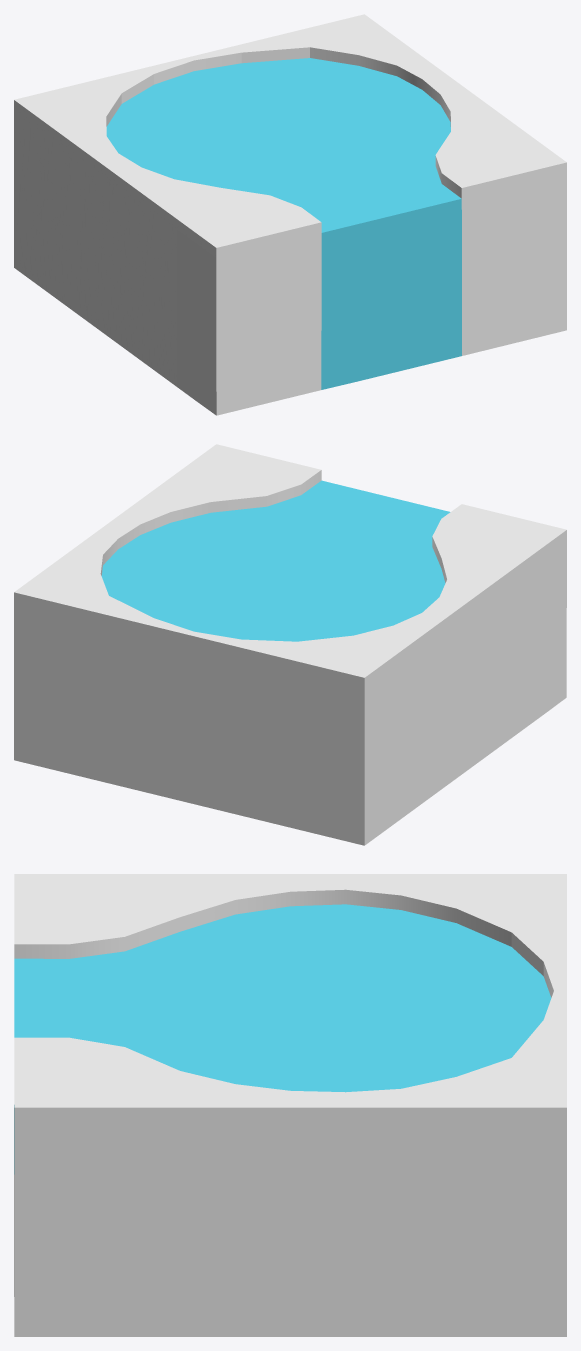
Rendered from start goll.fbx.
The picture shows the model from 3 angles, top to bottom: view 1: azimuth 30°, elevation 25°; view 2: azimuth 150°, elevation 25°; view 3: azimuth 270°, elevation 25°; orthographic projection. The views are drawn at different scales.
Parts seen in each view (by area): view 1: pCube1; view 2: pCube1; view 3: pCube1.
Boxes of the visible parts, x1,y1,x2,y2 form: pCube1: (14,14,566,415); pCube1: (14,444,566,845); pCube1: (14,874,566,1336).
Size of the model in its own units: 24.03 by 11 by 24.05.
1 material, 1 textured.
